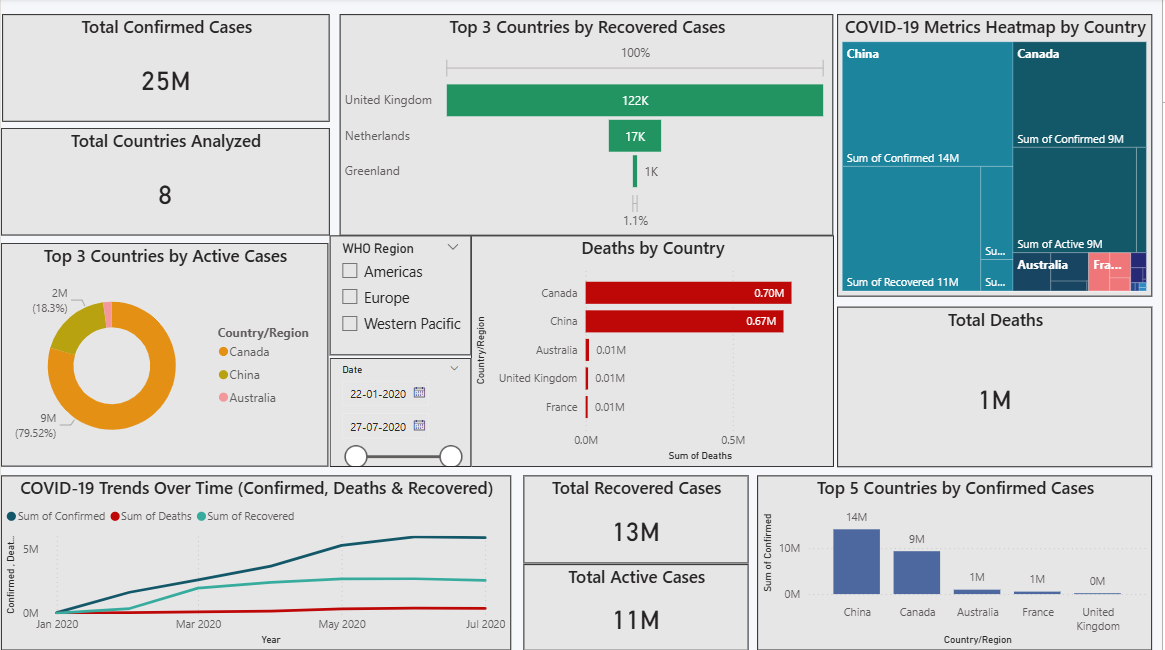

What the dashboard file says about the page in this screenshot:
{"tool":"powerbi","page":{"name":"Page 1","canvas":[1280,720],"ordinal":0},"visuals":[{"type":"lineStackedColumnComboChart","title":"Top 5 Countries by Confirmed Cases","fields":{"Category":["covid_19_clean_complete.Country/Region"],"Y":["Sum(covid_19_clean_complete.Confirmed)"]},"box":[833.8,526.4,435.5,192.9],"z":0},{"type":"clusteredBarChart","title":"Deaths by Country","fields":{"Category":["covid_19_clean_complete.Country/Region"],"Y":["Sum(covid_19_clean_complete.Deaths)"]},"box":[518.2,261.8,399.7,255],"z":1000},{"type":"donutChart","title":"Top 3 Countries by Active Cases","fields":{"Y":["Sum(covid_19_clean_complete.Active)"],"Category":["covid_19_clean_complete.Country/Region"]},"box":[0,270.1,361.1,246.7],"z":2000},{"type":"card","title":"Total Deaths","fields":{"Values":["Sum(covid_19_clean_complete.Deaths)"]},"box":[922,340.4,347.3,176.4],"z":3000},{"type":"card","title":"Total Confirmed Cases","fields":{"Values":["Sum(covid_19_clean_complete.Confirmed)"]},"box":[1.4,17.9,361.1,118.5],"z":4000},{"type":"card","title":"Total Active Cases","fields":{"Values":["Sum(covid_19_clean_complete.Active)"]},"box":[576.1,624.3,248.1,95.1],"z":5000},{"type":"card","title":"Total Recovered Cases","fields":{"Values":["Sum(covid_19_clean_complete.Recovered)"]},"box":[576.1,526.4,248.1,96.5],"z":6000},{"type":"lineChart","title":"COVID-19 Trends Over Time (Confirmed, Deaths & Recovered)","fields":{"Category":["covid_19_clean_complete.Date.Variation.Date Hierarchy.Year","covid_19_clean_complete.Date.Variation.Date Hierarchy.Quarter","covid_19_clean_complete.Date.Variation.Date Hierarchy.Month","covid_19_clean_complete.Date.Variation.Date Hierarchy.Day"],"Y":["Sum(covid_19_clean_complete.Confirmed)","Sum(covid_19_clean_complete.Deaths)","Sum(covid_19_clean_complete.Recovered)"]},"box":[0,526.4,562.3,192.9],"z":7000},{"type":"card","title":"Total Countries Analyzed","fields":{"Values":["Count(covid_19_clean_complete.Country/Region)"]},"box":[0,143.3,362.4,118.5],"z":8000},{"type":"treemap","title":"COVID-19 Metrics Heatmap by Country","fields":{"Values":["Sum(covid_19_clean_complete.Confirmed)","Sum(covid_19_clean_complete.Deaths)","Sum(covid_19_clean_complete.Recovered)","Sum(covid_19_clean_complete.Active)"],"Group":["covid_19_clean_complete.Country/Region"]},"box":[922,17.9,347.3,311.5],"z":9000},{"type":"funnel","title":"Top 3 Countries by Recovered Cases","fields":{"Category":["covid_19_clean_complete.Country/Region"],"Y":["Sum(covid_19_clean_complete.Recovered)"]},"box":[373.5,17.9,544.4,243.9],"z":10000},{"type":"slicer","fields":{"Values":["covid_19_clean_complete.WHO Region"]},"box":[362.4,261.8,155.7,132.3],"z":11000},{"type":"slicer","fields":{"Values":["covid_19_clean_complete.Date"]},"box":[362.4,396.9,155.7,119.9],"z":12000}]}

Visuals, with their boxes in screenshot pixels (x1, y1, x2, y2), scaled from the page's 1280x720 canvas onto the 1165x650 screenshot:
"Top 5 Countries by Confirmed Cases" lineStackedColumnComboChart: 759 475 1155 649
"Deaths by Country" clusteredBarChart: 472 236 835 467
"Top 3 Countries by Active Cases" donutChart: 0 244 329 467
"Total Deaths" card: 839 307 1155 467
"Total Confirmed Cases" card: 1 16 330 123
"Total Active Cases" card: 524 564 750 649
"Total Recovered Cases" card: 524 475 750 562
"COVID-19 Trends Over Time (Confirmed, Deaths & Recovered)" lineChart: 0 475 512 649
"Total Countries Analyzed" card: 0 129 330 236
"COVID-19 Metrics Heatmap by Country" treemap: 839 16 1155 297
"Top 3 Countries by Recovered Cases" funnel: 340 16 835 236
slicer - covid_19_clean_complete.WHO Region: 330 236 472 356
slicer - covid_19_clean_complete.Date: 330 358 472 467
